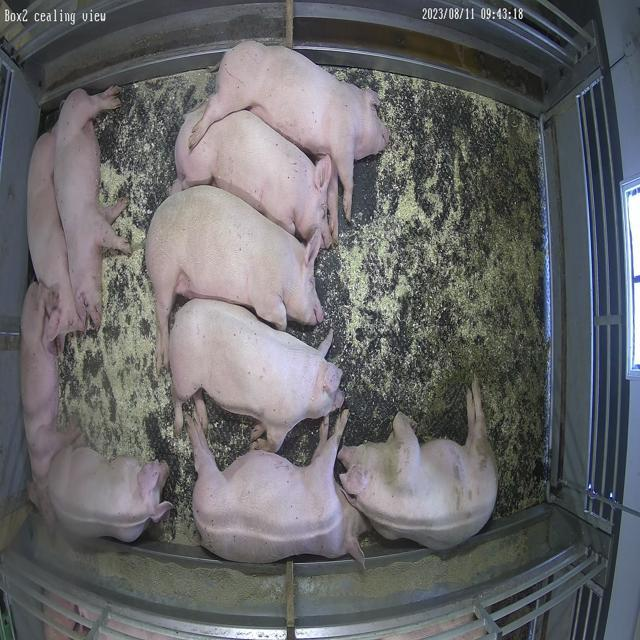Dirt: (456, 96, 544, 266), (423, 353, 512, 465)
Pig: (191, 40, 390, 220), (145, 186, 324, 368), (187, 411, 367, 564), (338, 379, 497, 552), (169, 300, 344, 452), (20, 131, 80, 512), (174, 104, 333, 246), (52, 86, 129, 330), (48, 447, 172, 542), (27, 131, 80, 338)
